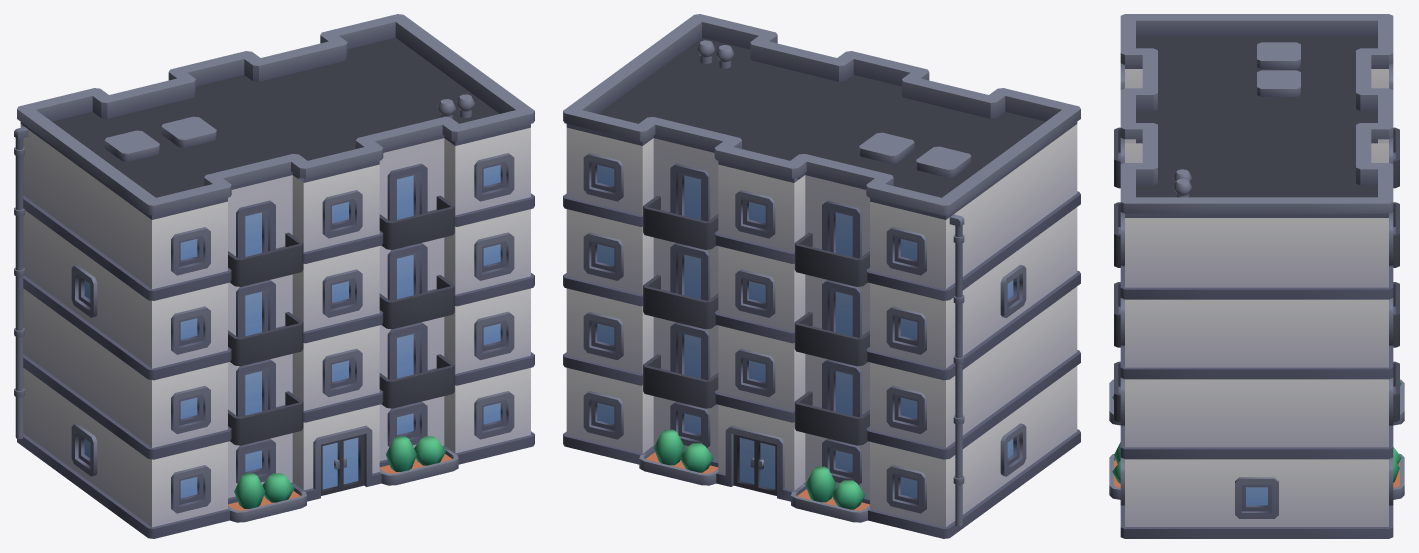
The model's file is k_c_building-j.glb.
3 renders of one model, left to right at view 1: azimuth 30°, elevation 25°; view 2: azimuth 150°, elevation 25°; view 3: azimuth 270°, elevation 25°, orthographic.
Visible parts, largest first — view 1: building-j; view 2: building-j; view 3: building-j.
Part boxes in pixels (x1=…): building-j: x1=14, y1=14, x2=534, y2=538; building-j: x1=563, y1=14, x2=1080, y2=538; building-j: x1=1109, y1=14, x2=1404, y2=538.
Bounding box in the file's own units: 2.08 × 1.69 × 1.34.
Materials: 1 (1 with a texture image).
